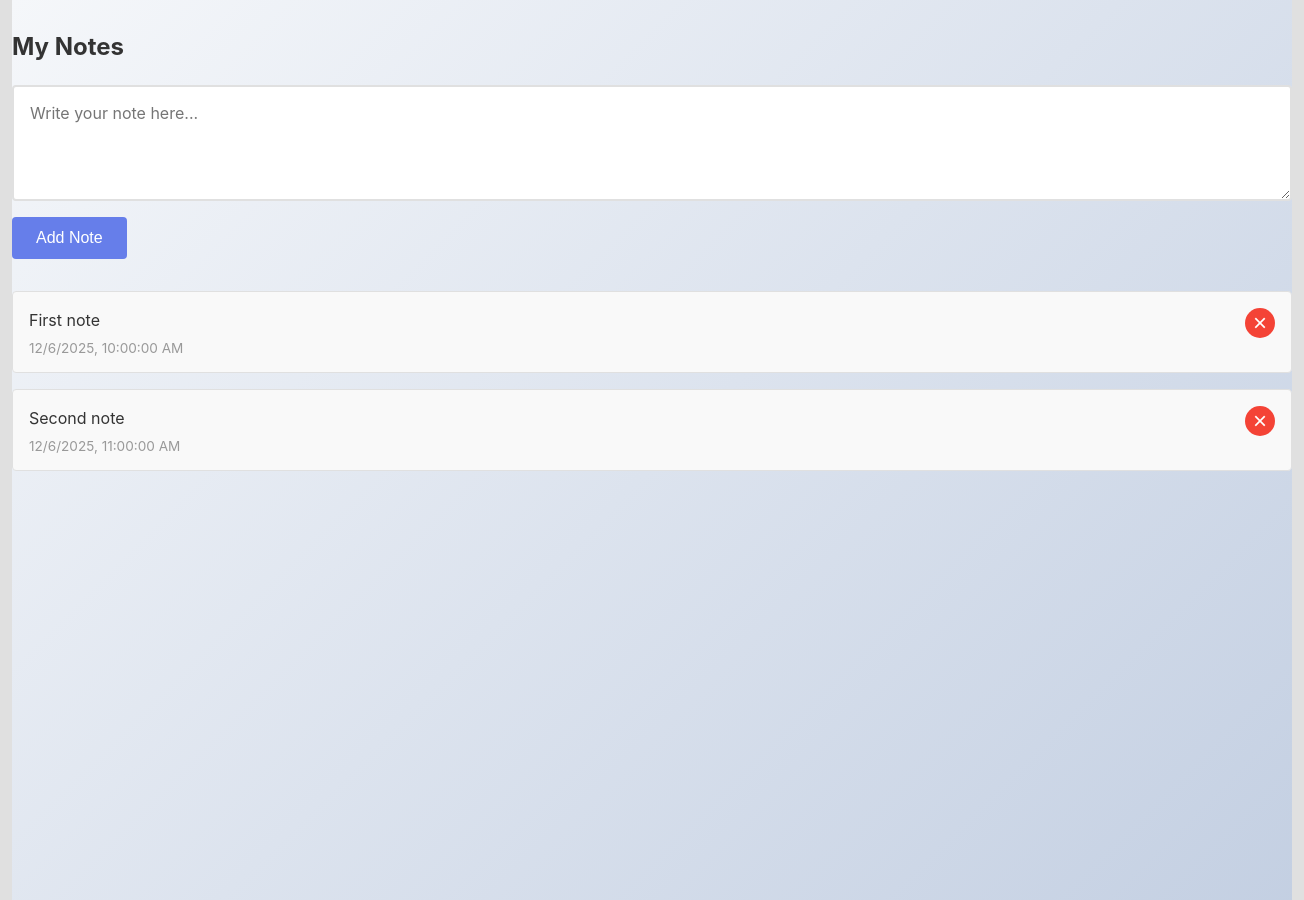
Test: Notes › should delete a note when delete button is clicked
Step 1. Click the button named "delete note" → point(1260, 323), box top-left (1245, 308), bottom-right (1275, 338)
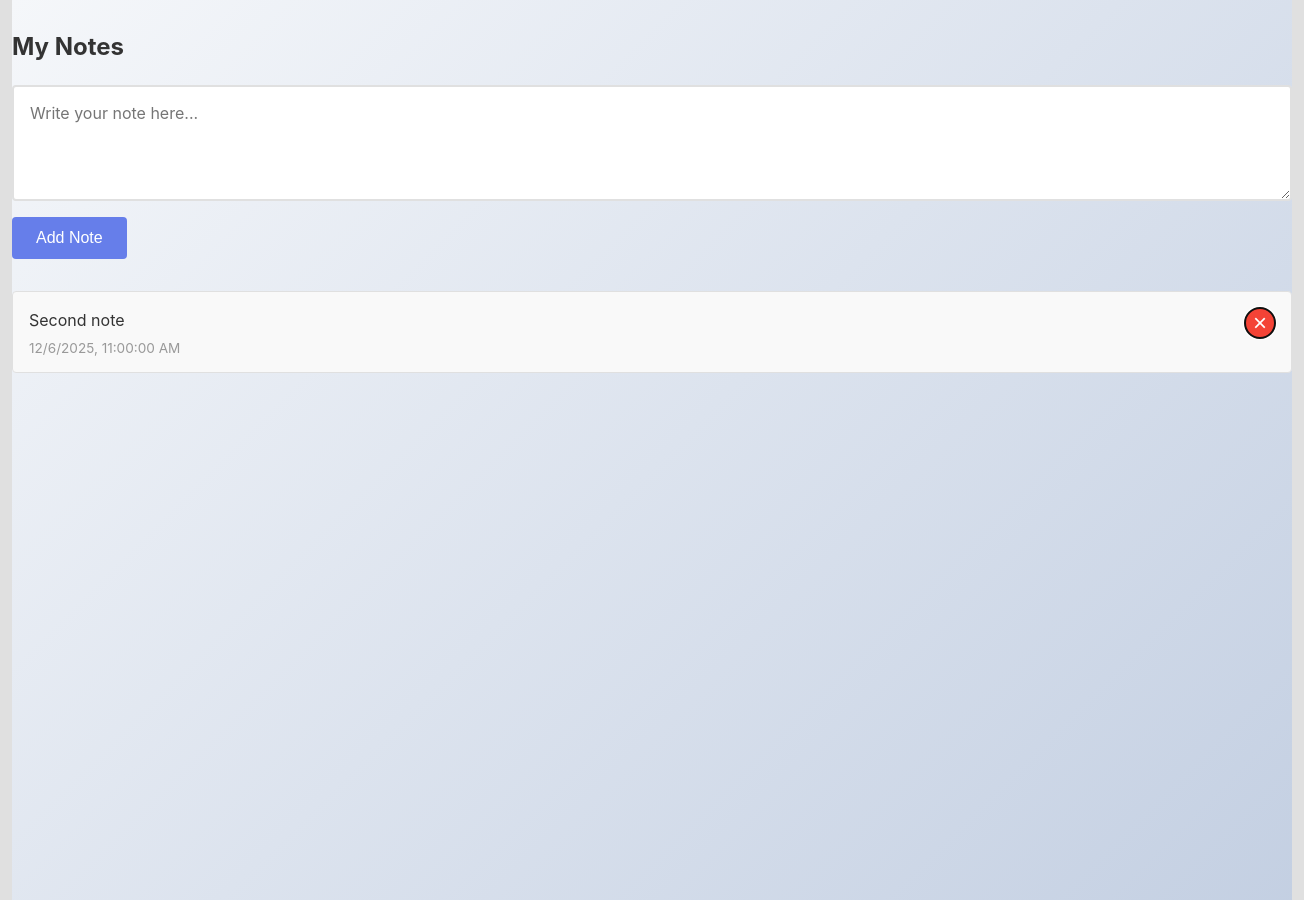
Now the text "First note" is gone
Now the text "Second note" is shown, box top-left (29, 310), bottom-right (124, 330)
